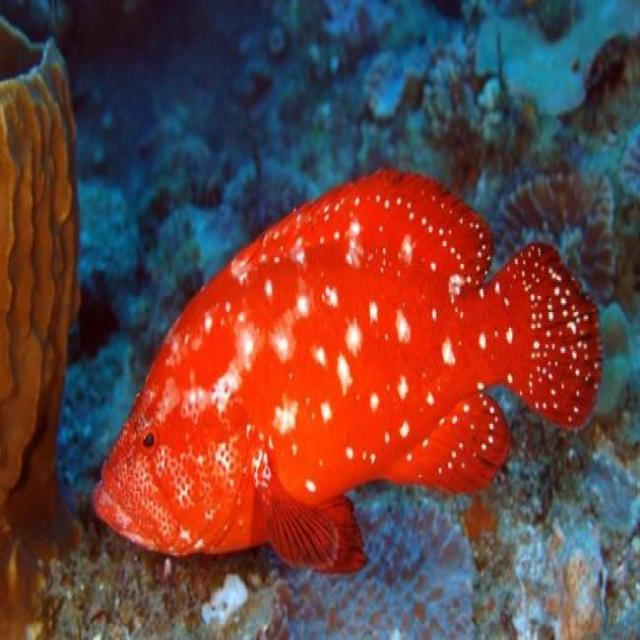ikan: (79, 151, 608, 577)
